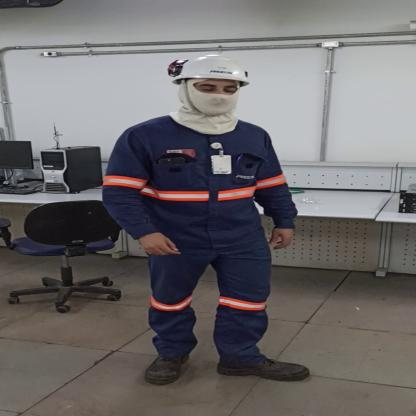Balaclava: (162, 79, 244, 136)
Capacete: (166, 52, 258, 86)
